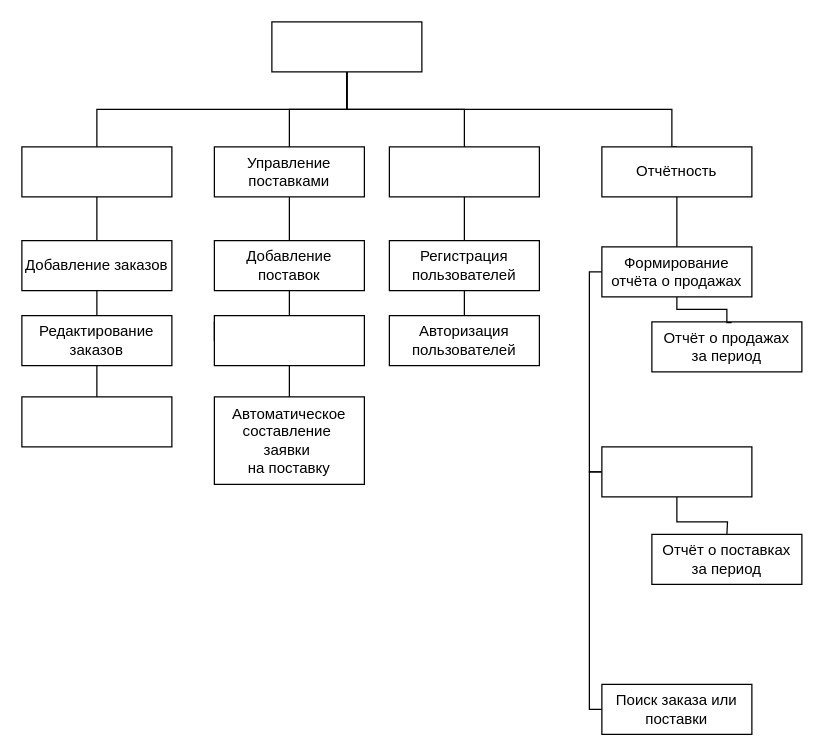
This 824x756 diagram has some shape labels left out. Here are the shapes that lost their labels. From the top down, the centre of each, then its label:
At (x=346, y=46): "Главное меню".
At (x=96, y=171): "Управление заказами".
At (x=463, y=171): "Управление учётными записями".
At (x=288, y=340): "Редактирование поставок".
At (x=96, y=421): "Редактирование статуса заказа".
At (x=676, y=471): "Формирование отчёта о поставках".
